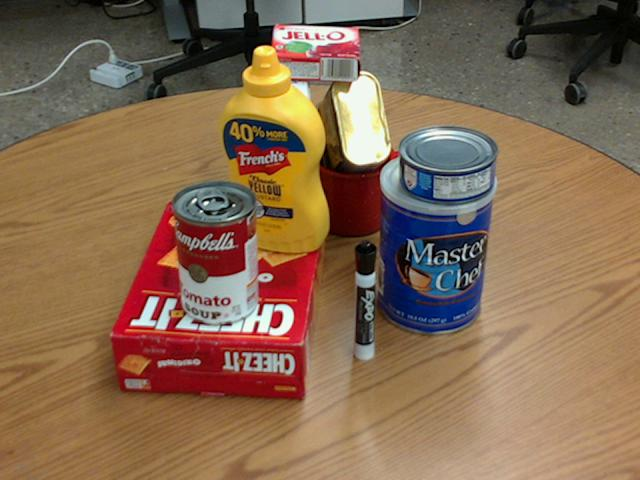cracker_box: (110, 202, 326, 399)
gelatin_box: (268, 25, 359, 82)
large_marker: (353, 240, 376, 360)
master_chef_can: (374, 148, 495, 334)
mug: (311, 133, 413, 234)
mustard_bottle: (217, 45, 327, 251)
potted_meat_can: (313, 73, 390, 188)
sugar_box: (266, 58, 308, 247)
tomato_soup_can: (171, 180, 258, 324)
tuna_fish_can: (398, 125, 497, 203)
